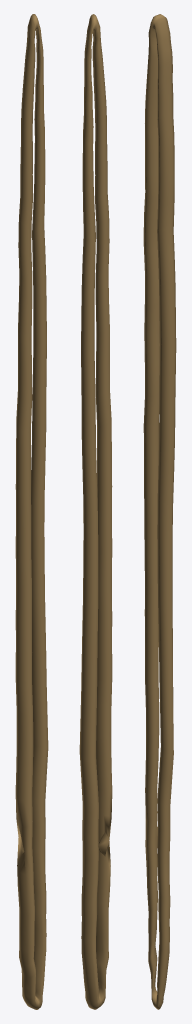
Rendered from portal_border.fbx.
3 views of the same model, side by side, from view 1: azimuth 30°, elevation 25°; view 2: azimuth 210°, elevation 25°; view 3: azimuth 330°, elevation 25° (orthographic).
Visible parts, largest first — view 1: border001; view 2: border001; view 3: border001.
Boxes of the visible parts, x1,y1,x2,y2 form: border001: [15, 14, 48, 1009]; border001: [79, 14, 112, 1009]; border001: [143, 14, 176, 1009].
Bounding box in the file's own units: 1.11 × 35.11 × 0.626.
